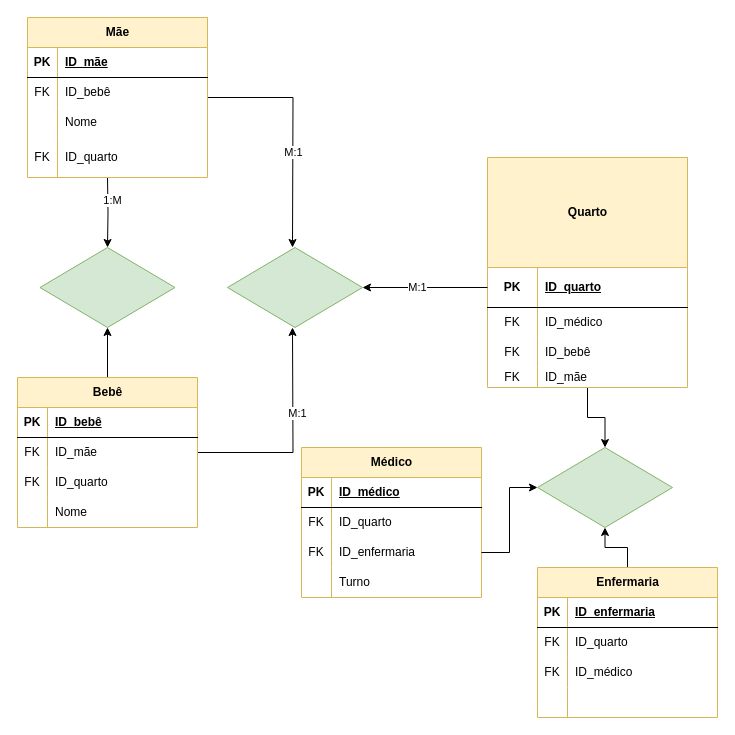
Image size: 735x735. Some labels were removed from this diagram. The centre of each missing label's shape, as x and y in pixels:
"Atende" goes at (604,487).
"Gera" goes at (107,287).
"Hospeda" goes at (294,287).
